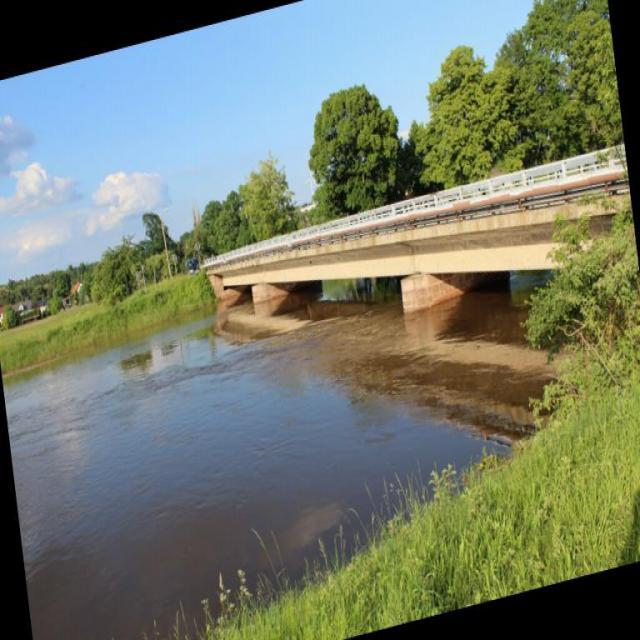flood: (0, 200, 621, 639)
